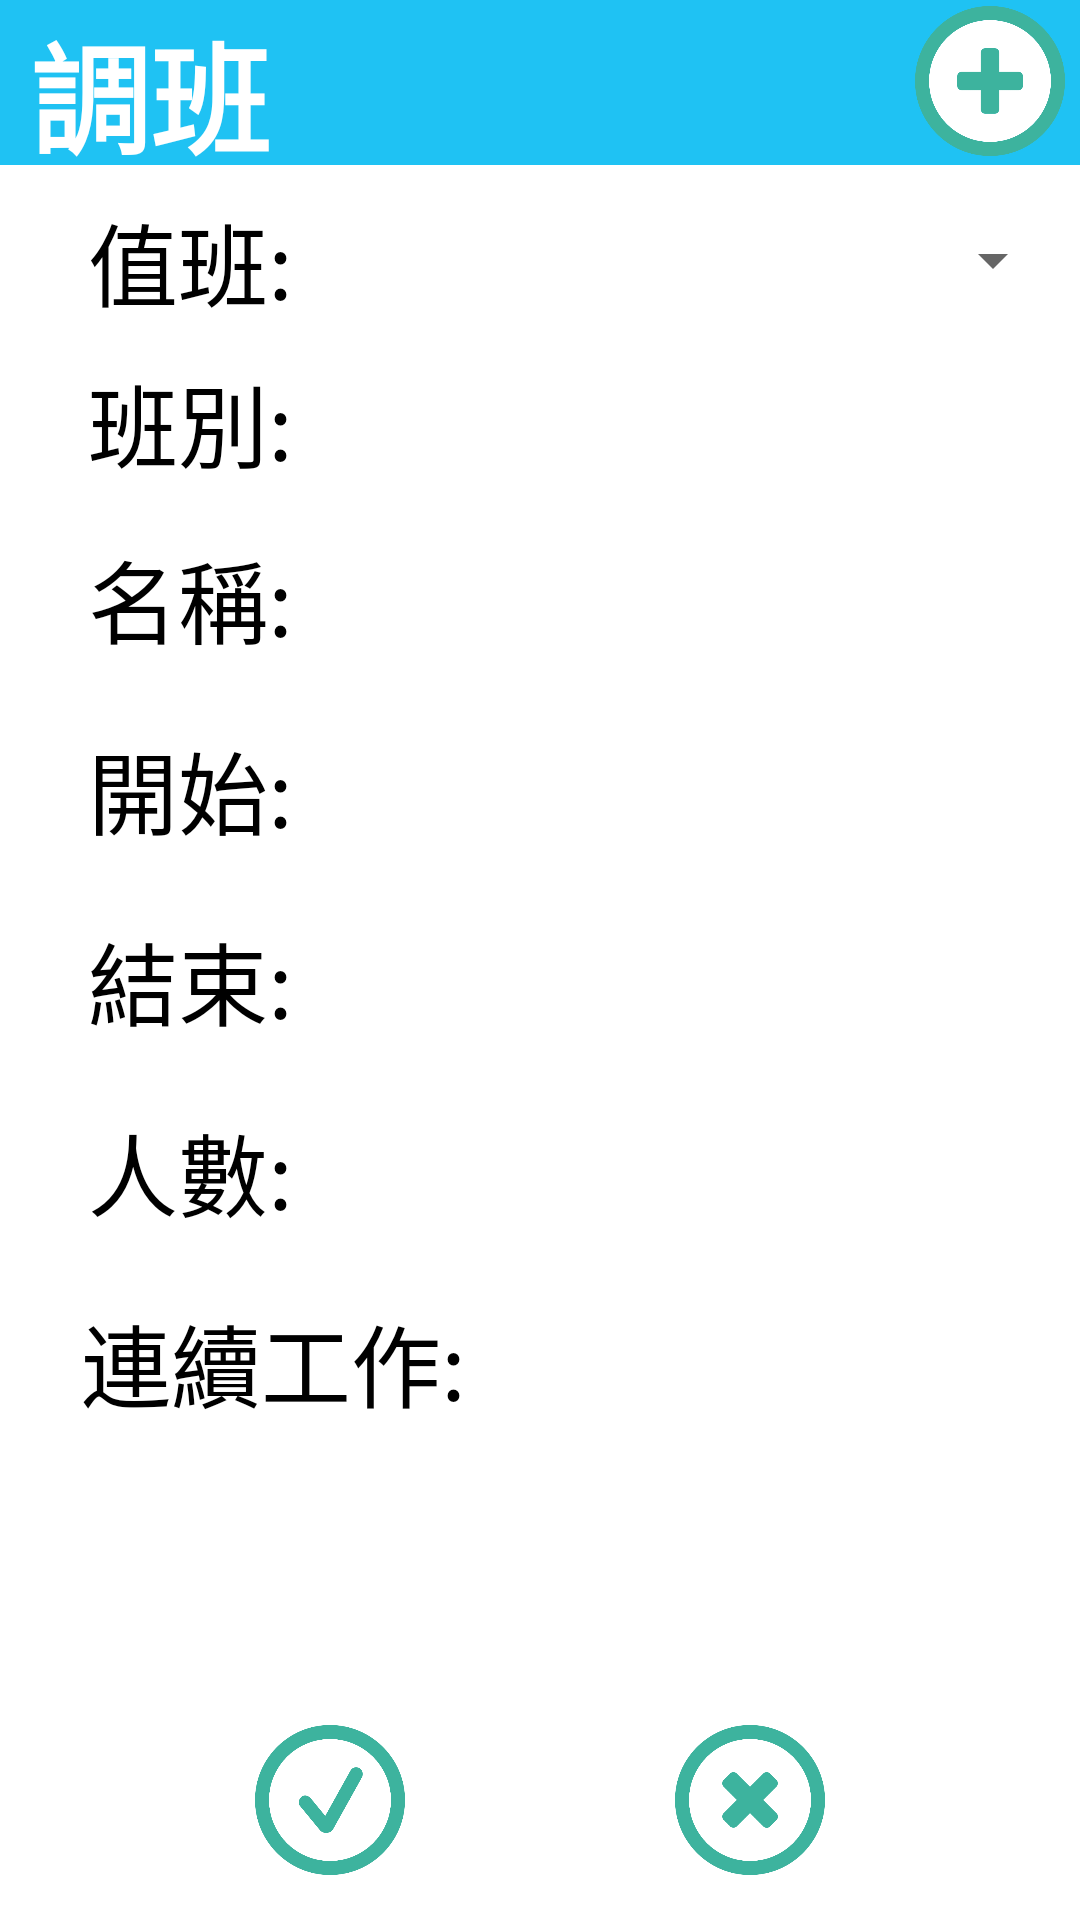

Screen size 1080px×1920px. Icon name, then its center in pixels as (x=x, y=y):
add: (x=990, y=81)
checked: (x=330, y=1800)
multiply: (x=750, y=1800)
